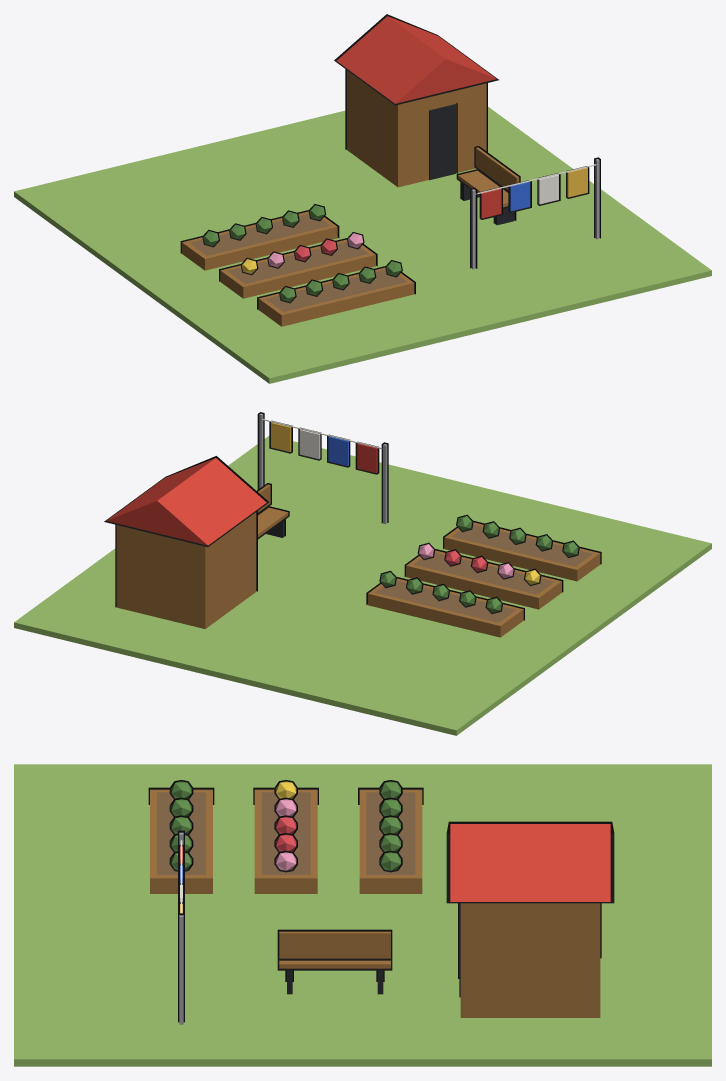
Rendered from Avlu_bahce.fbx.
3 renders of one model, top to bottom at view 1: azimuth 30°, elevation 25°; view 2: azimuth 150°, elevation 25°; view 3: azimuth 270°, elevation 25°, orthographic. The views are drawn at different scales.
Visible parts, largest first — view 1: Avlu_bahce; view 2: Avlu_bahce; view 3: Avlu_bahce.
Part boxes in pixels (left/top/right/bottom): Avlu_bahce: left=14, top=14, right=711, bottom=383; Avlu_bahce: left=14, top=412, right=711, bottom=735; Avlu_bahce: left=14, top=764, right=711, bottom=1066.
Bounding box in the file's own units: 10 × 2.76 × 10.
